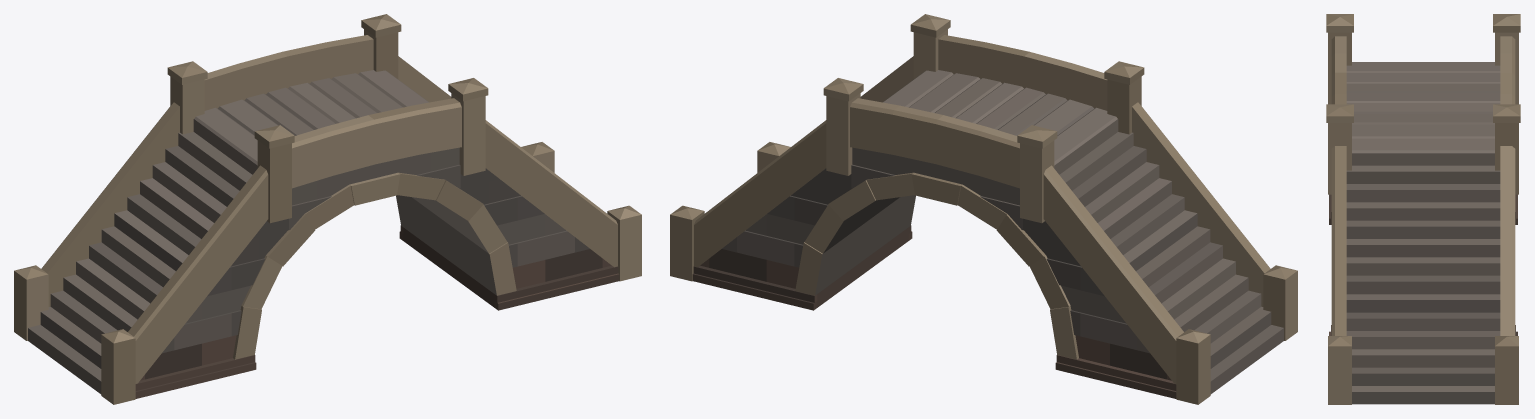
File: arched-stone-bridge-9474cf.glb
The picture shows the model from 3 angles, left to right: view 1: azimuth 30°, elevation 25°; view 2: azimuth 150°, elevation 25°; view 3: azimuth 270°, elevation 25°; orthographic projection. The views are drawn at different scales.
Parts seen in each view (by area): view 1: bridge-body; view 2: bridge-body; view 3: bridge-body.
Boxes of the visible parts, x1,y1,x2,y2 form: bridge-body: [14, 14, 641, 404]; bridge-body: [670, 14, 1297, 404]; bridge-body: [1326, 14, 1520, 404].
Size of the model in its own units: 12 by 4.98 by 4.
